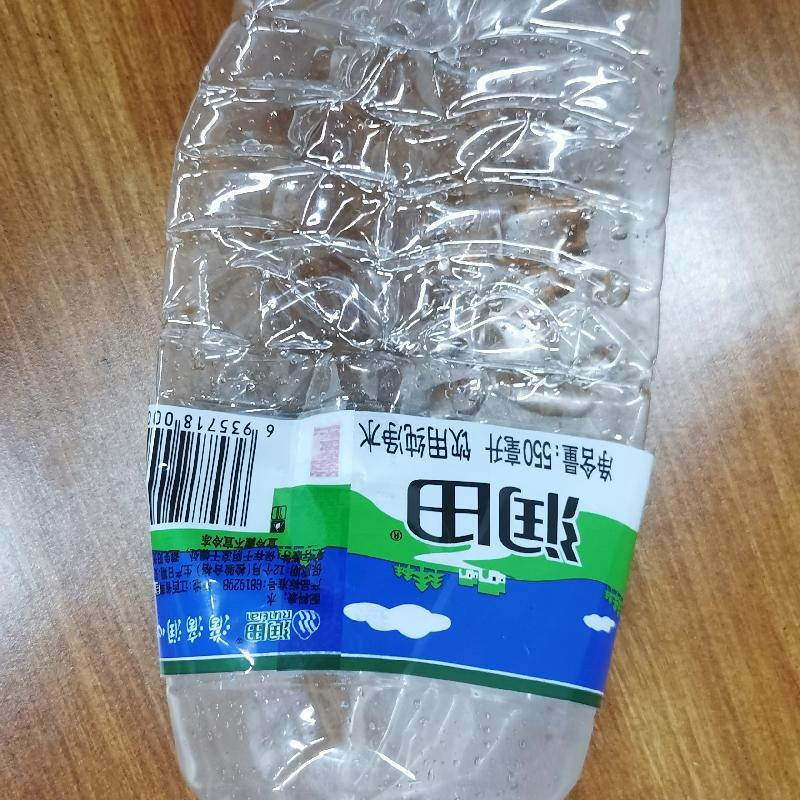bottles: (144, 4, 688, 799)
